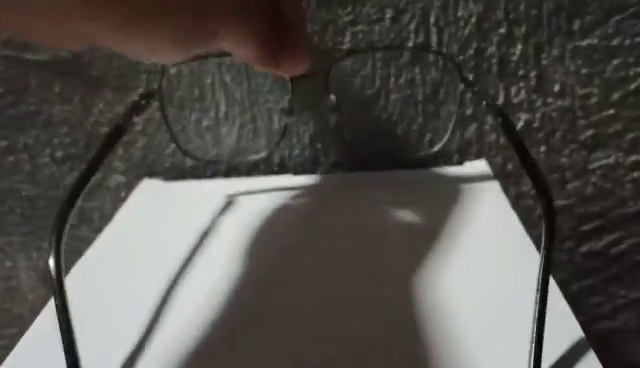glasses: (48, 46, 560, 368)
